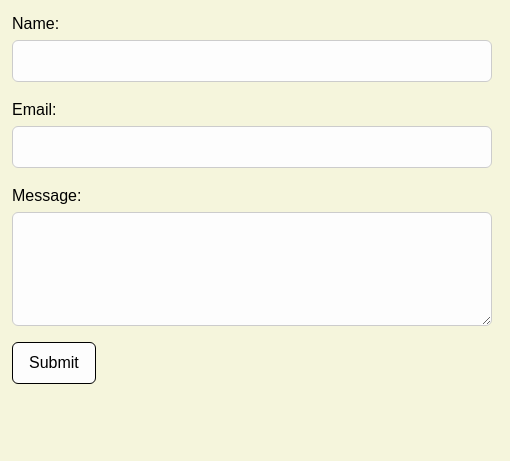
it: ContactForm › shows the completion message and clears the fields for valid data
Type "Jane Doe" into the field labelled "Name:".
click(252, 61); type("Jane Doe")  # box [12,40,492,82]
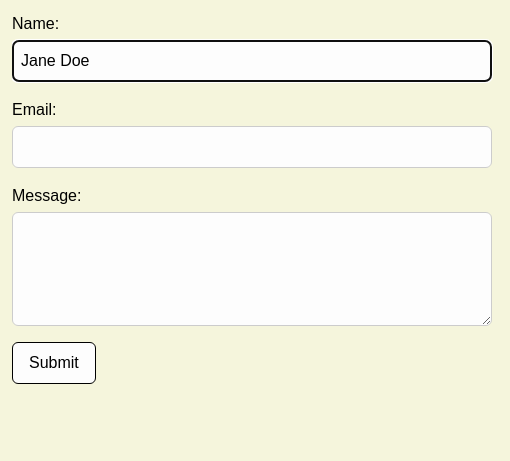
Type "jane@example.com" into the field labelled "Email:".
click(252, 147); type("jane@example.com")  # box [12,126,492,168]
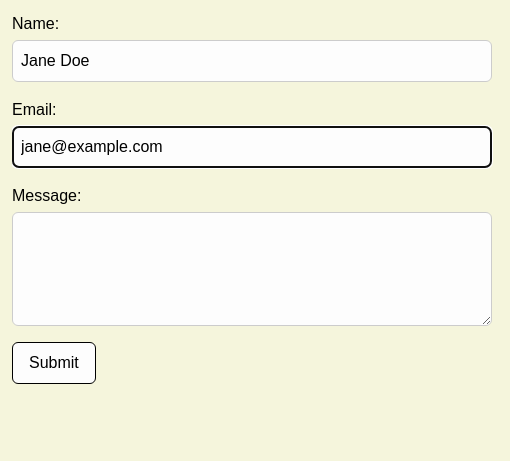
Type "Love the milk tea!" into the text box labelled "Message:".
click(252, 269); type("Love the milk tea!")  # box [12,212,492,326]
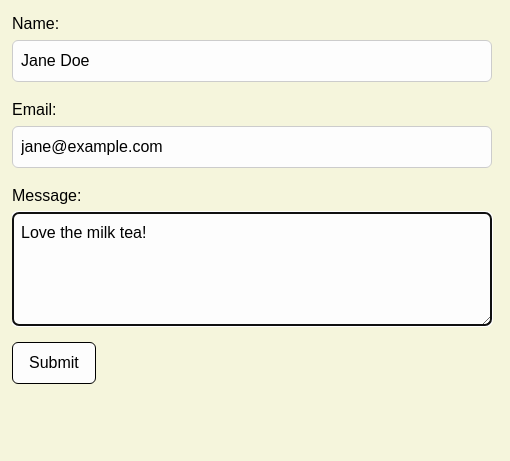
Click the button "Submit".
click(54, 363)  # box [12,342,96,384]
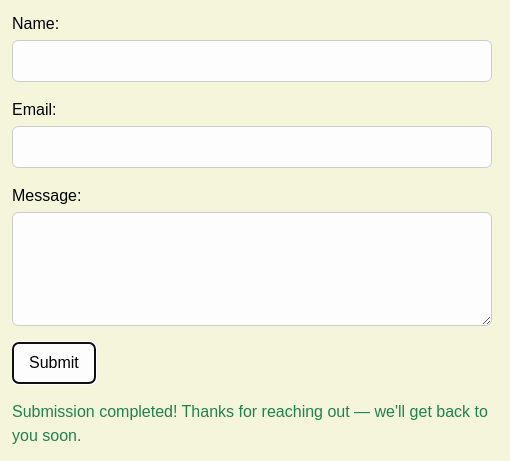
Expected: the message shows "Submission completed", [12,403,488,444]
Expected: the field labelled "Name:" is empty, [12,40,492,82]
Expected: the field labelled "Email:" is empty, [12,126,492,168]
